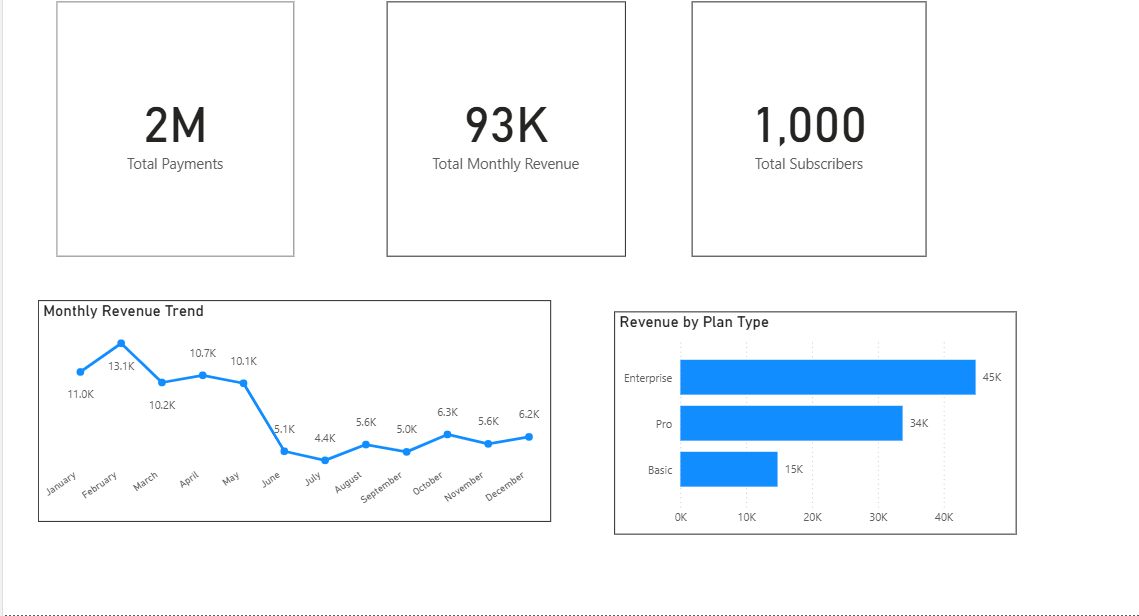

Layout of this report page (visuals, bound fields, positions):
{"tool":"powerbi","page":{"name":"Page 1","canvas":[1280,720],"ordinal":0},"visuals":[{"type":"card","fields":{"Values":["payment_logs.Total Payments"]},"box":[59,46.7,260.7,279.9],"z":0},{"type":"card","fields":{"Values":["subscriptions.Total Monthly Revenue"]},"box":[421.3,46.7,262.1,279.9],"z":1000},{"type":"card","fields":{"Values":["subscriptions.Total Subscribers"]},"box":[756.1,46.7,258,279.9],"z":2000},{"type":"lineChart","title":"Monthly Revenue Trend","fields":{"Category":["subscriptions.start_date.Variation.Date Hierarchy.Month"],"Y":["Sum(subscriptions.monthly_revenue)"]},"box":[38.3,375,563.3,243.3],"z":3000},{"type":"barChart","title":"Revenue by Plan Type","fields":{"Category":["subscriptions.plan_type"],"Y":["Sum(subscriptions.monthly_revenue)"]},"box":[671.7,386.7,441.7,245],"z":4000}]}

Visuals, with their boxes in screenshot pixels (x1, y1, x2, y2):
card - payment_logs.Total Payments: <box>54,1,290,255</box>
card - subscriptions.Total Monthly Revenue: <box>383,1,621,255</box>
card - subscriptions.Total Subscribers: <box>687,1,921,255</box>
"Monthly Revenue Trend" lineChart: <box>35,299,546,520</box>
"Revenue by Plan Type" barChart: <box>610,310,1011,532</box>
